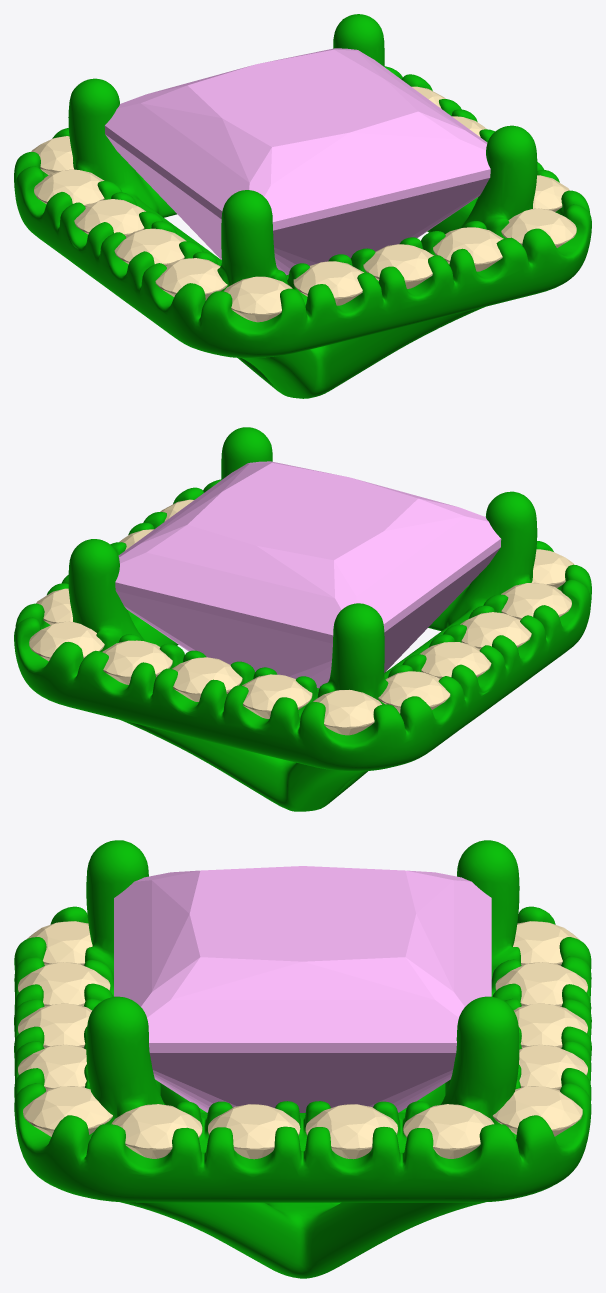
3 renders of one model, top to bottom at view 1: azimuth 30°, elevation 25°; view 2: azimuth 150°, elevation 25°; view 3: azimuth 270°, elevation 25°, orthographic. The views are drawn at different scales.
Visible parts, largest first — view 1: Metal01, Diamond_Princess, Diamond_Round.016, Diamond_Round.017, Diamond_Round.013, Diamond_Round.006, Diamond_Round.015, Diamond_Round.014, Diamond_Round.011, Diamond_Round.008, Diamond_Round.005, Diamond_Round.009 (+1 smaller); view 2: Metal01, Diamond_Princess, Diamond_Round.009, Diamond_Round.012, Diamond_Round.010, Diamond_Round.002, Diamond_Round.011, Diamond_Round.008, Diamond_Round.015, Diamond_Round.014, Diamond_Round.001, Diamond_Round.016 (+1 smaller); view 3: Metal01, Diamond_Princess, Diamond_Round.003, Diamond_Round.007, Diamond_Round, Diamond_Round.004, Diamond_Round.005, Diamond_Round.001, Diamond_Round.017, Diamond_Round.010, Diamond_Round.012, Diamond_Round.013 (+4 smaller).
Boxes of the visible parts, x1,y1,x2,y2 form: Metal01: (14, 14, 591, 398); Diamond_Princess: (104, 48, 490, 275); Diamond_Round.016: (224, 276, 292, 322); Diamond_Round.017: (293, 261, 363, 305); Diamond_Round.013: (363, 244, 433, 288); Diamond_Round.006: (433, 227, 503, 271); Diamond_Round.015: (155, 258, 227, 300); Diamond_Round.014: (114, 228, 186, 265); Diamond_Round.011: (34, 169, 104, 206); Diamond_Round.008: (74, 199, 145, 236); Diamond_Round.005: (501, 208, 576, 247); Diamond_Round.009: (31, 136, 74, 174); Metal01: (14, 427, 591, 811); Diamond_Princess: (115, 461, 501, 688); Diamond_Round.009: (313, 689, 381, 735); Diamond_Round.012: (172, 657, 242, 701); Diamond_Round.010: (242, 674, 312, 718); Diamond_Round.002: (102, 640, 172, 684); Diamond_Round.011: (378, 671, 450, 713); Diamond_Round.008: (419, 642, 491, 678); Diamond_Round.015: (501, 582, 571, 619); Diamond_Round.014: (460, 612, 531, 649); Diamond_Round.001: (29, 621, 104, 661); Diamond_Round.016: (531, 549, 574, 587); Metal01: (14, 840, 591, 1278); Diamond_Princess: (114, 866, 491, 1112); Diamond_Round.003: (403, 1104, 493, 1158); Diamond_Round.007: (111, 1104, 202, 1158); Diamond_Round: (305, 1104, 397, 1159); Diamond_Round.004: (208, 1104, 300, 1159); Diamond_Round.005: (23, 1086, 112, 1136); Diamond_Round.001: (492, 1086, 582, 1136); Diamond_Round.017: (18, 962, 110, 1006); Diamond_Round.010: (495, 962, 587, 1006); Diamond_Round.012: (513, 1003, 587, 1048); Diamond_Round.013: (18, 1003, 91, 1048).
Size of the model in its own units: 10.63 by 7.2 by 10.64.
